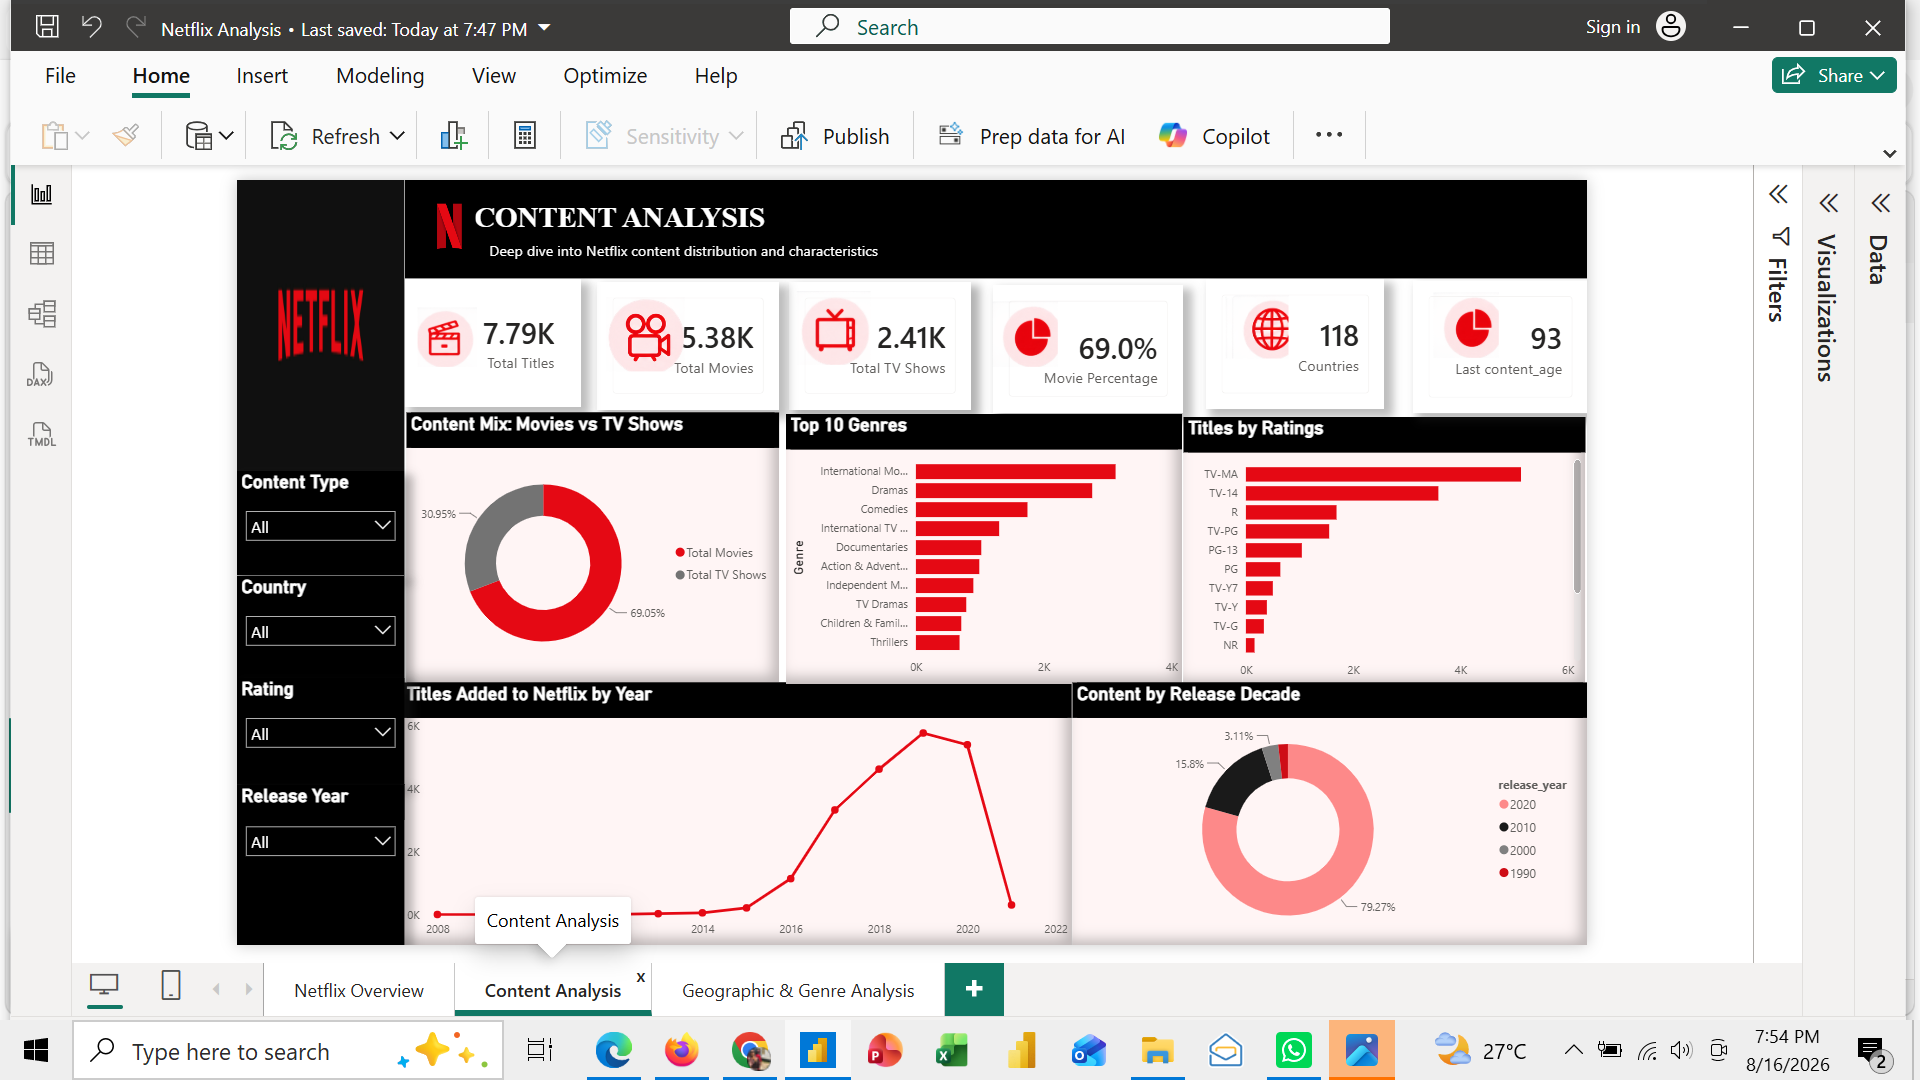

Layout of this report page (visuals, bound fields, positions):
{"tool":"powerbi","page":{"name":"Content Analysis","canvas":[1500,850],"ordinal":1},"visuals":[{"type":"cardVisual","fields":{"Data":["NetFlix.Total Titles"]},"box":[186,109.3,195.3,141.9],"z":0},{"type":"cardVisual","fields":{"Data":["NetFlix.Total TV Shows"]},"box":[614,114,202.3,141.9],"z":1000},{"type":"cardVisual","fields":{"Data":["NetFlix.Movie Percentage"]},"box":[839.5,116.3,211.6,141.9],"z":2000},{"type":"cardVisual","fields":{"Data":["NetFlix.Total Movies"]},"box":[400,114,202.3,141.9],"z":3000},{"type":"cardVisual","fields":{"Data":["Count(NetFlix.country)"]},"box":[1076.7,109.3,198,144],"z":4000},{"type":"donutChart","title":"    Content Mix: Movies vs TV Shows","fields":{"Y":["NetFlix.Total Movies","NetFlix.Total TV Shows"]},"box":[188.4,258.1,414,300],"z":5000},{"type":"lineChart","title":"Titles Added to Netflix by Year","fields":{"Y":["CountNonNull(NetFlix.title)"],"Category":["NetFlix.year_added"]},"box":[183.7,558.1,744,292],"z":6000},{"type":"clusteredBarChart","title":"Titles by Ratings","fields":{"Category":["NetFlix.rating"],"Y":["CountNonNull(NetFlix.title)"]},"box":[1051.2,262.8,446.5,300],"z":7000},{"type":"clusteredBarChart","title":"Top 10 Genres","fields":{"Category":["NetFlix.netflix_genre"],"Y":["CountNonNull(NetFlix.netflix_genre)"]},"box":[609.3,260.5,440,300],"z":8000},{"type":"image","box":[0,0,186,323.3],"z":9000},{"type":"textbox","box":[186,0,1414,109.3],"z":10000},{"type":"textbox","box":[264,62,466,34],"z":11000},{"type":"slicer","title":"Content Type","fields":{"Values":["NetFlix.type"]},"box":[0,323.3,186,116.3],"z":12000},{"type":"slicer","title":"Country","fields":{"Values":["NetFlix.country"]},"box":[0,439.5,186,118.6],"z":13000},{"type":"slicer","title":"Rating","fields":{"Values":["NetFlix.rating"]},"box":[0,553.5,186,118.6],"z":14000},{"type":"slicer","title":"Release Year","fields":{"Values":["NetFlix.release_year"]},"box":[0,672.1,186,179.1],"z":15000},{"type":"image","box":[183.7,141.9,100,66],"z":16000},{"type":"image","box":[409.3,130.2,87.5,82.5],"z":17000},{"type":"image","box":[609.3,123.3,106,82],"z":18000},{"type":"image","box":[816.3,134.9,118.2,72.7],"z":19000},{"type":"image","box":[1079.1,127.9,110,70],"z":20000},{"type":"image","box":[204.7,23.3,60,56],"z":21000},{"type":"donutChart","title":"Content by Release Decade","fields":{"Category":["NetFlix.release_year"],"Y":["Count(NetFlix.title)"]},"box":[927.9,558.1,572.1,293],"z":22000},{"type":"cardVisual","title":"Content Age","fields":{"Data":["Max(NetFlix.content_age)"]},"box":[1307,111.6,194.1,147.1],"z":23000},{"type":"image","box":[1307,125.6,118.2,72.7],"z":24000}]}

Visuals, with their boxes on the page's 1500x850 design canvas (x1, y1, x2, y2). These are canvas units, not pixel positions in the 1920x1080 screenshot, which may show the page scaled, cropped or inside an application window:
cardVisual - NetFlix.Total Titles: 186:109:381:251
cardVisual - NetFlix.Total TV Shows: 614:114:816:256
cardVisual - NetFlix.Movie Percentage: 840:116:1051:258
cardVisual - NetFlix.Total Movies: 400:114:602:256
cardVisual - Count(NetFlix.country): 1077:109:1275:253
"    Content Mix: Movies vs TV Shows" donutChart: 188:258:602:558
"Titles Added to Netflix by Year" lineChart: 184:558:928:850
"Titles by Ratings" clusteredBarChart: 1051:263:1498:563
"Top 10 Genres" clusteredBarChart: 609:260:1049:560
image: 0:0:186:323
textbox: 186:0:1600:109
textbox: 264:62:730:96
"Content Type" slicer: 0:323:186:440
"Country" slicer: 0:440:186:558
"Rating" slicer: 0:554:186:672
"Release Year" slicer: 0:672:186:851
image: 184:142:284:208
image: 409:130:497:213
image: 609:123:715:205
image: 816:135:934:208
image: 1079:128:1189:198
image: 205:23:265:79
"Content by Release Decade" donutChart: 928:558:1500:851
"Content Age" cardVisual: 1307:112:1501:259
image: 1307:126:1425:198
